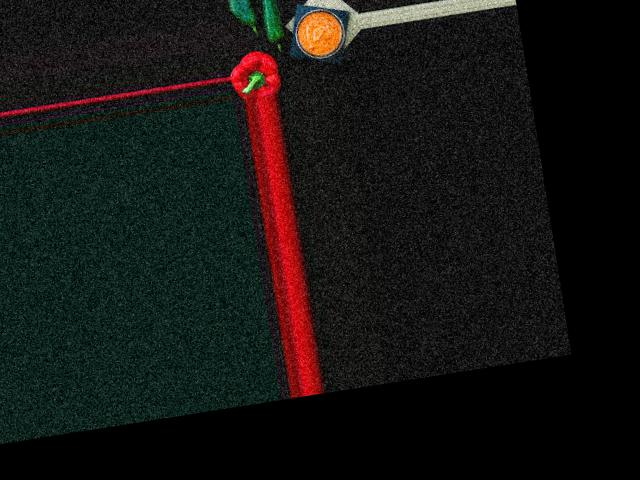bell_pepper: (228, 49, 283, 100)
